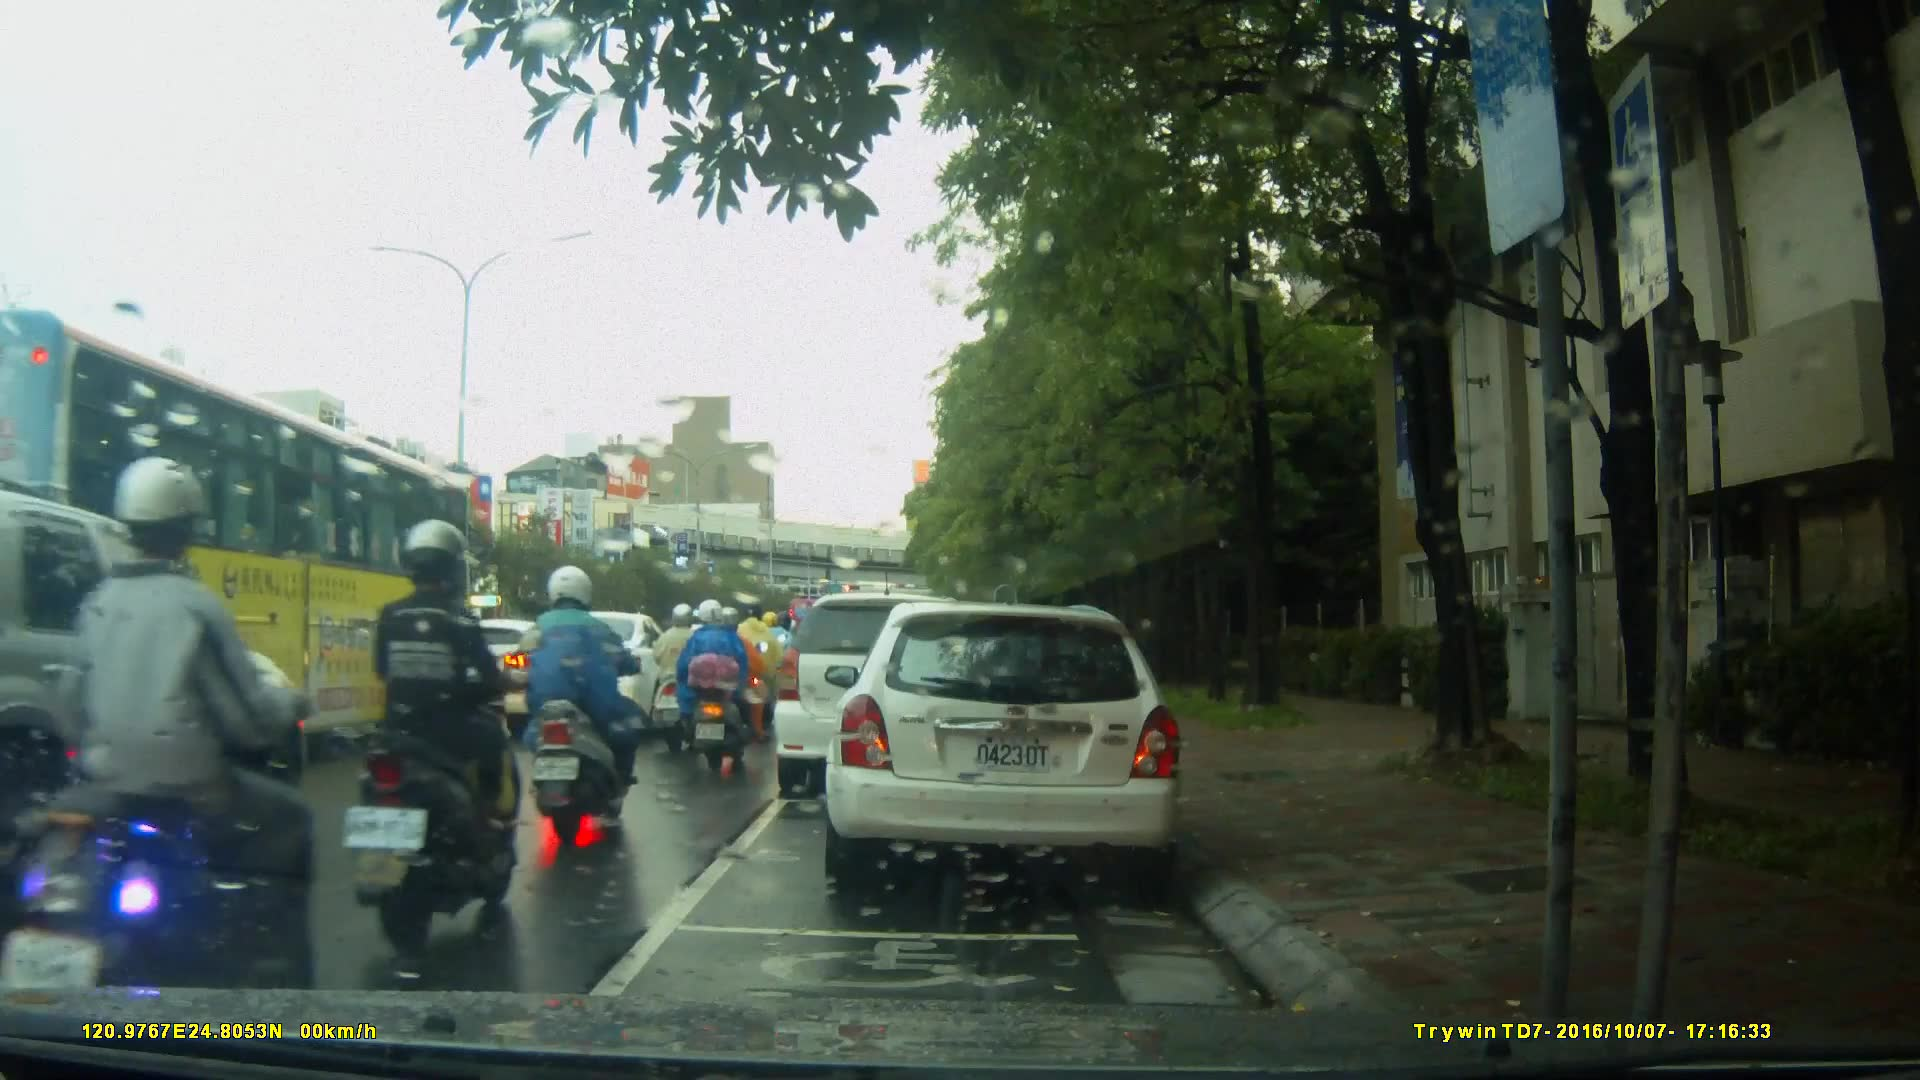rider: (17, 456, 313, 1047), (341, 518, 529, 945), (529, 558, 646, 848), (675, 600, 771, 774), (648, 600, 716, 757), (725, 594, 783, 732)
vehicle: (1, 311, 485, 780), (1, 471, 324, 944), (835, 594, 1194, 898), (776, 590, 1026, 784), (499, 608, 690, 739)
